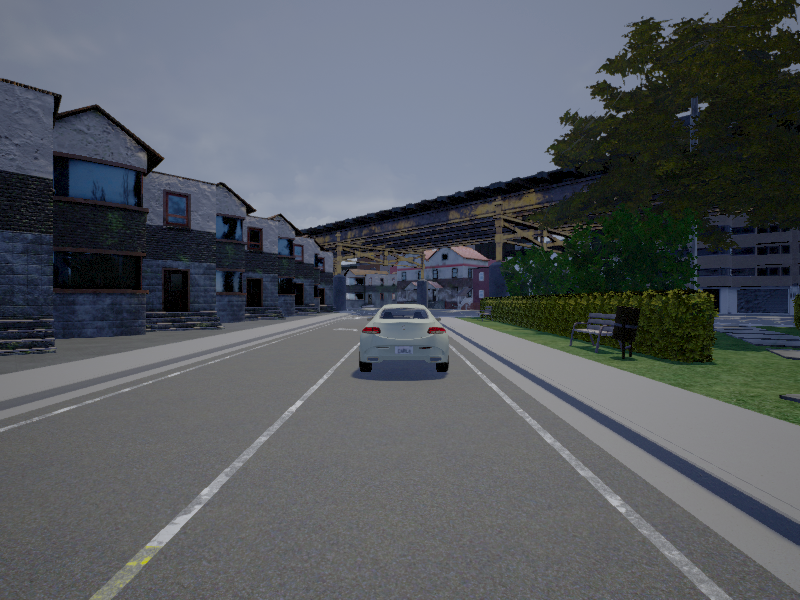Benign: (360, 303, 449, 375)
